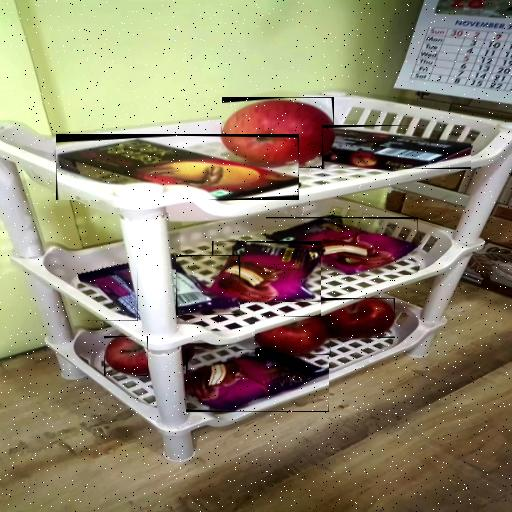Apple: (222, 97, 334, 168), (256, 316, 332, 355), (321, 298, 395, 338), (104, 336, 148, 376)
Choco Fills: (56, 134, 299, 200), (322, 125, 471, 169)
Choco Pie: (186, 349, 329, 412), (266, 217, 418, 275), (212, 241, 321, 302), (176, 255, 240, 315), (78, 265, 138, 321)
